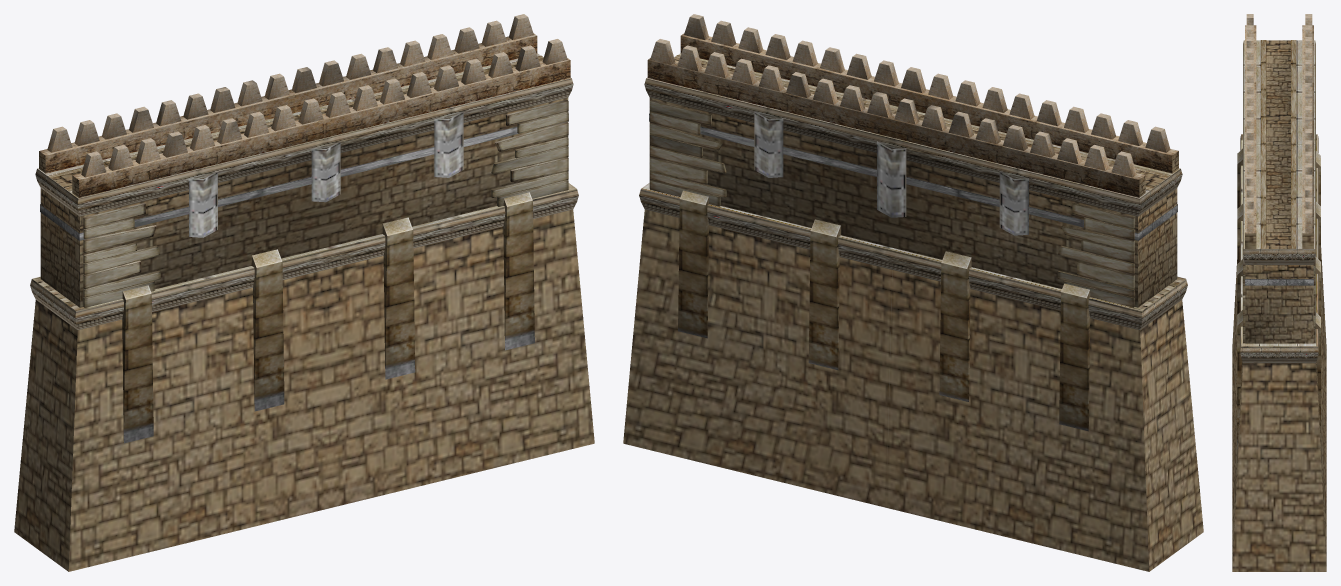
Rendered from sele_wall.glb.
The picture shows the model from 3 angles, left to right: view 1: azimuth 30°, elevation 25°; view 2: azimuth 150°, elevation 25°; view 3: azimuth 270°, elevation 25°; orthographic projection. The views are drawn at different scales.
Visible parts, largest first — view 1: sele_wall_part0; view 2: sele_wall_part0; view 3: sele_wall_part0.
Boxes of the visible parts, box(x1,y1,x2,y2) form: sele_wall_part0: box(14, 14, 594, 571); sele_wall_part0: box(623, 14, 1203, 571); sele_wall_part0: box(1232, 14, 1326, 571).
Bounding box in the file's own units: 2 × 1.46 × 0.359.
1 material, 1 textured.
